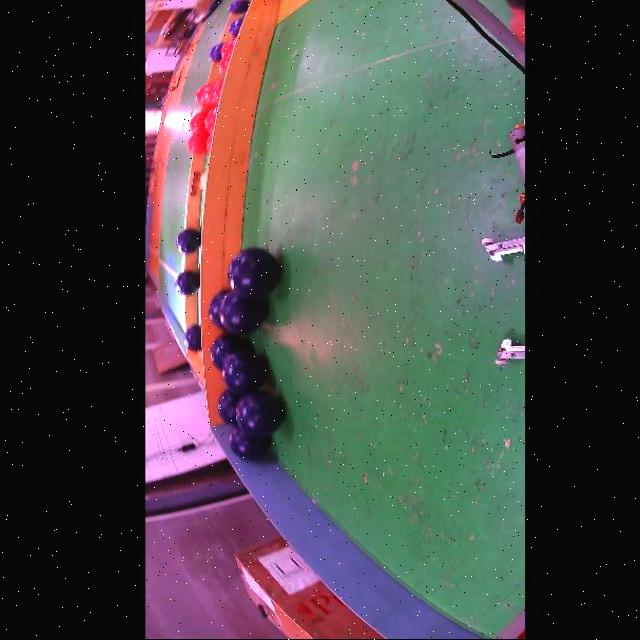B: (225, 249, 279, 300), (233, 391, 282, 437), (220, 350, 265, 397), (217, 292, 265, 335), (208, 335, 250, 370), (228, 426, 269, 461), (207, 291, 227, 331), (216, 391, 238, 426), (174, 229, 199, 254), (174, 271, 197, 296), (182, 325, 200, 352)
P: (227, 0, 248, 14), (227, 18, 242, 37), (207, 43, 221, 63)
R: (184, 130, 207, 156), (187, 111, 207, 134), (206, 80, 221, 106), (203, 106, 215, 134), (219, 37, 234, 59), (194, 85, 207, 105), (201, 84, 211, 106), (204, 134, 211, 152)
